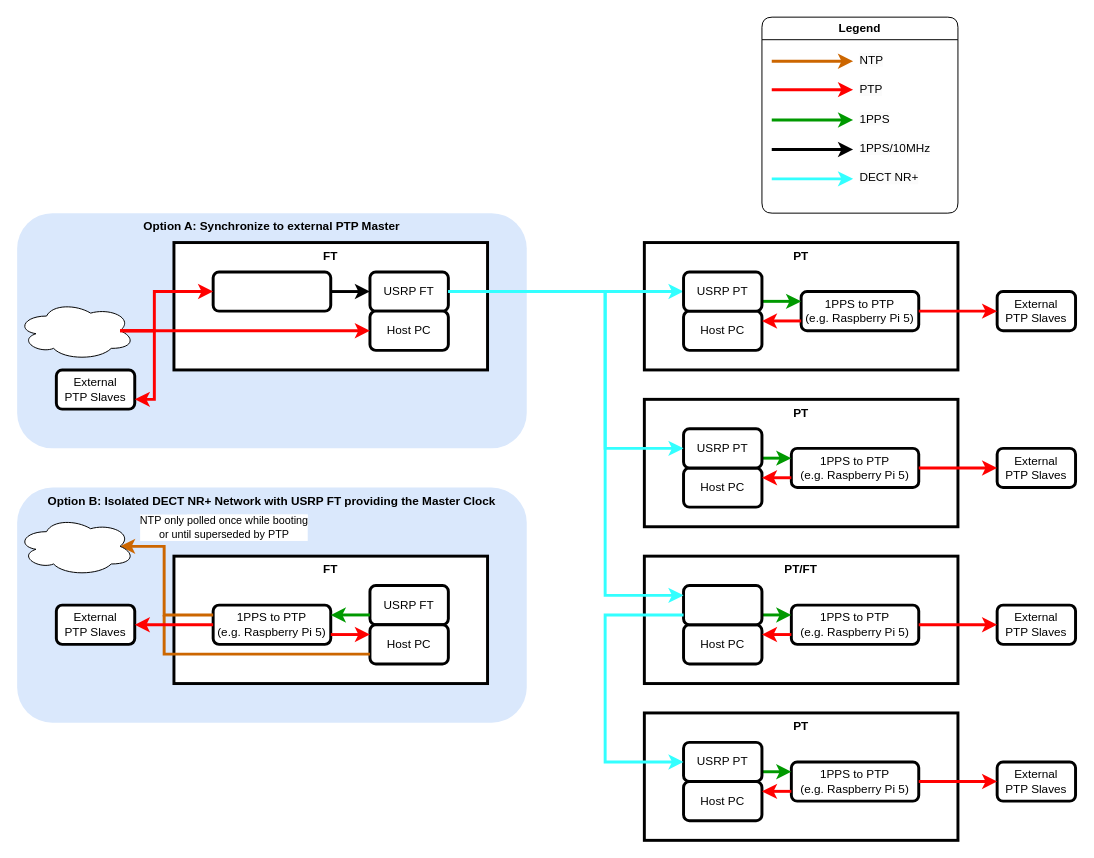
Some shapes in this 1094 by 858 pixel diagram are drawn without their labels. The centre of each missing label's shape, as x and y in pixels:
External NTP Master: (x=75, y=546)
External PTP Master: (x=75, y=330)
PTP to 1PPS/10MHz (e.g. SyncBox/N2X): (x=271, y=291)
USRP PT/FT: (x=722, y=605)
